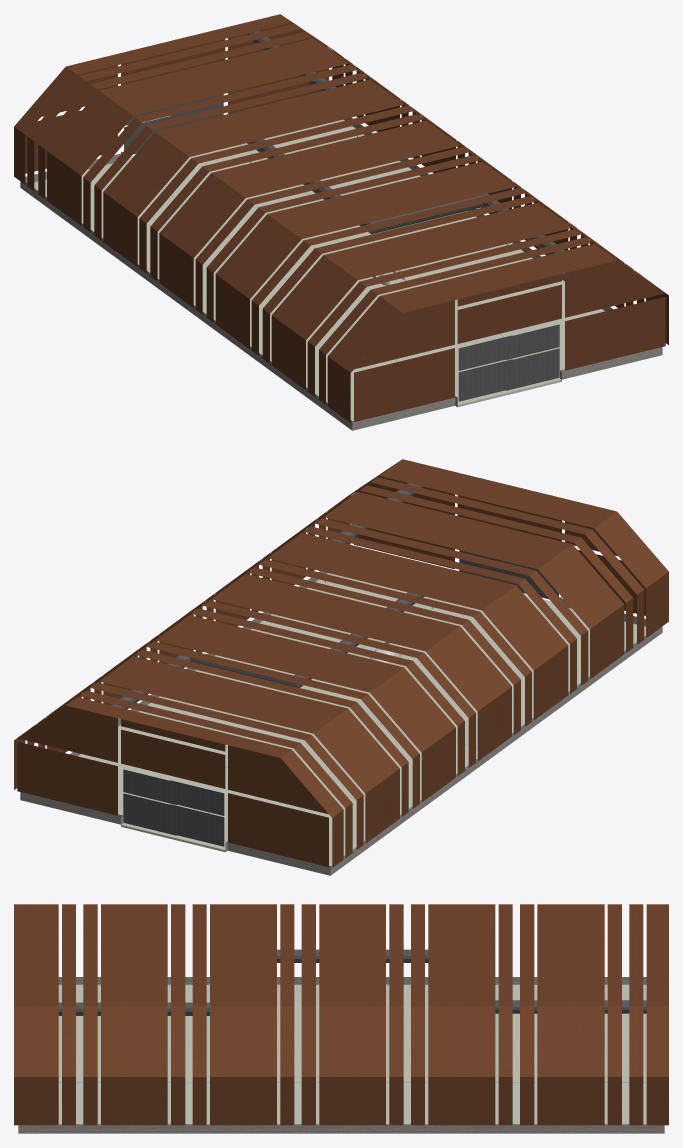
The model's file is hangar_fret-CZR_nDMy.glb.
3 views of the same model, one above another, from view 1: azimuth 30°, elevation 25°; view 2: azimuth 150°, elevation 25°; view 3: azimuth 270°, elevation 25° (orthographic). The views are drawn at different scales.
Visible parts, largest first — view 1: Material2 (×4); view 2: Material2 (×4); view 3: Material2 (×4).
Part boxes in pixels (x1=…): Material2 (×4): x1=14, y1=14, x2=668, y2=430; Material2 (×4): x1=14, y1=459, x2=668, y2=875; Material2 (×4): x1=14, y1=904, x2=668, y2=1133.
Bounding box in the file's own units: 766 × 248 × 1404.
Materials: 8 (4 with a texture image).
